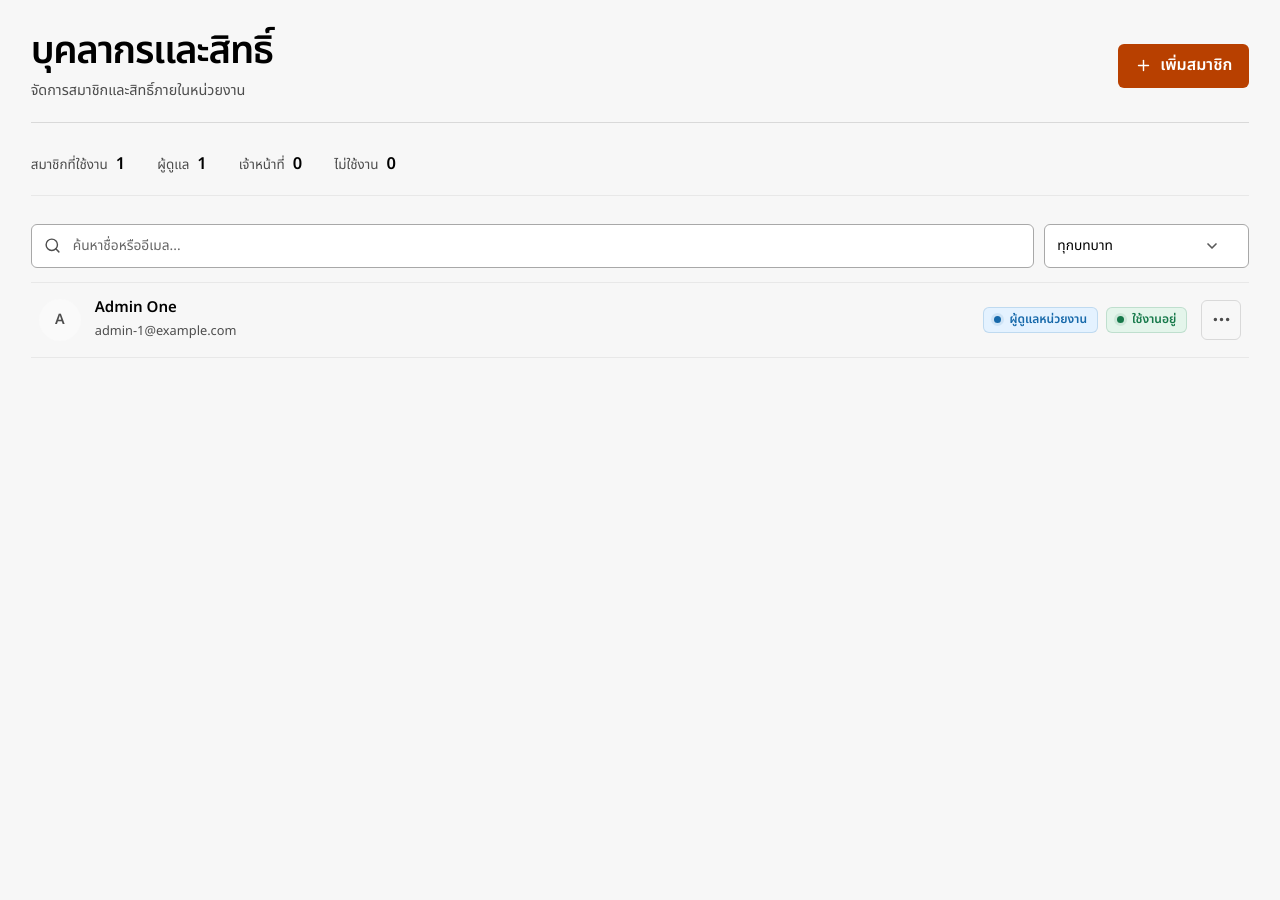
StaffView popup management › opens a popup to add a member, normalizes the email, and refreshes the list
The image size is (1280, 900).
Expected: the heading "Admin One" is shown, [95,296,177,319]
Expected: the field labelled "อีเมลผู้ใช้" is not shown
Click the button "เพิ่มสมาชิก" at point(1184, 66), box [1118,44,1249,88]
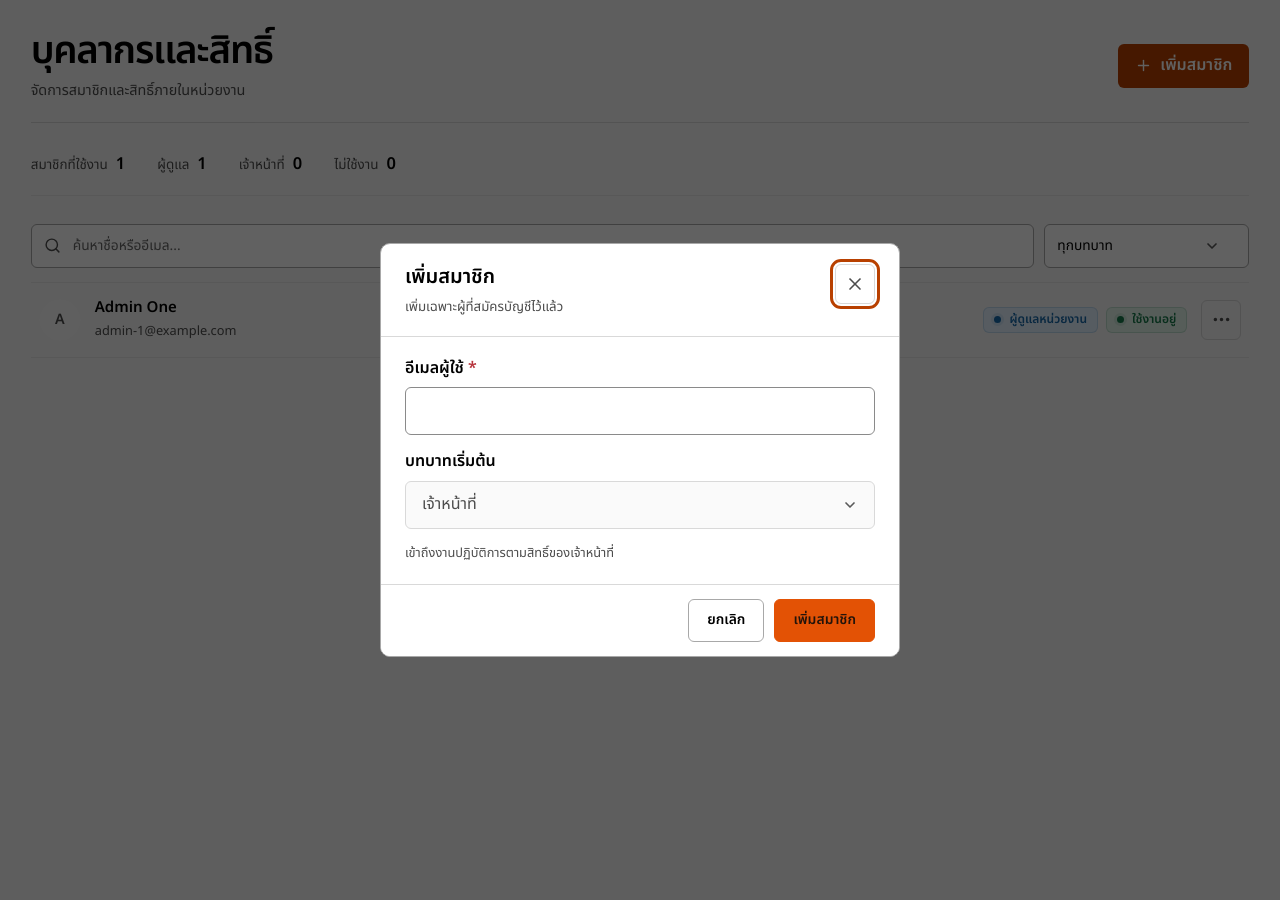
Type "  NEW@Example.COM  " into the field labelled "อีเมลผู้ใช้" at point(640, 411), box [405,387,875,435]
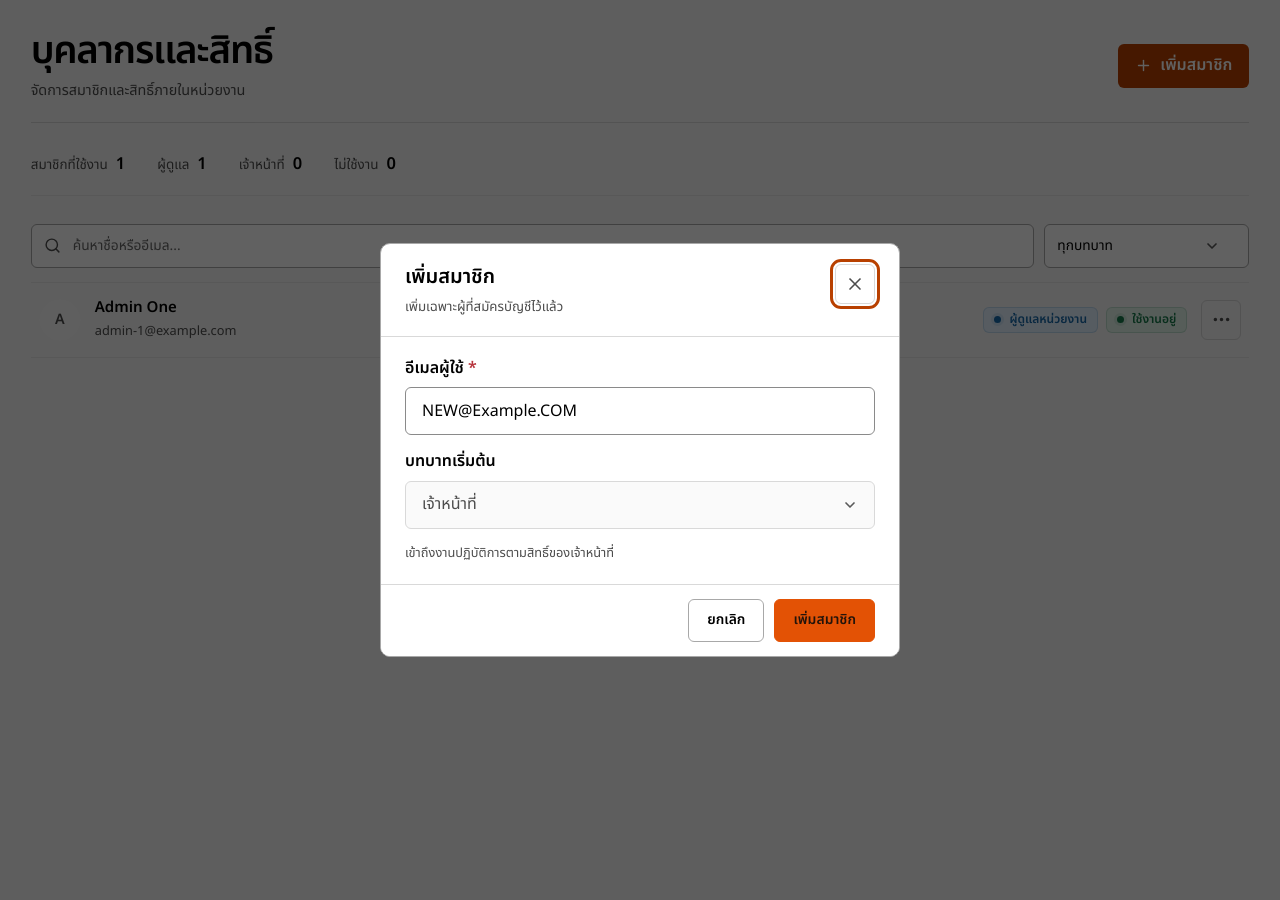
Click the button "เพิ่มสมาชิก" at point(825, 620), box [774,599,875,642]
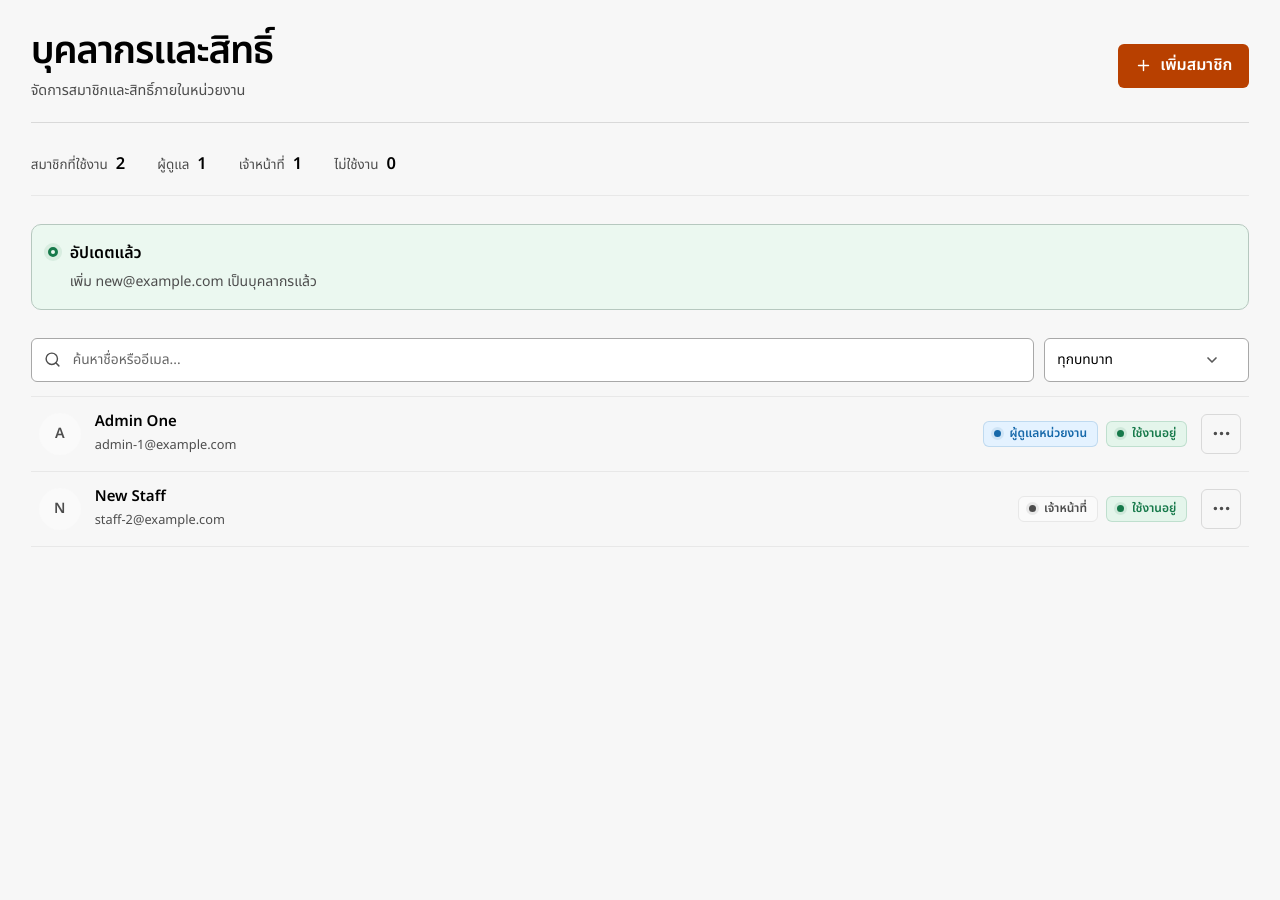
Now the heading "New Staff" is shown, box [95,485,166,508]
Now the text "เพิ่ม new@example.com เป็นบุคลากรแล้ว" is shown, box [70,271,317,292]
